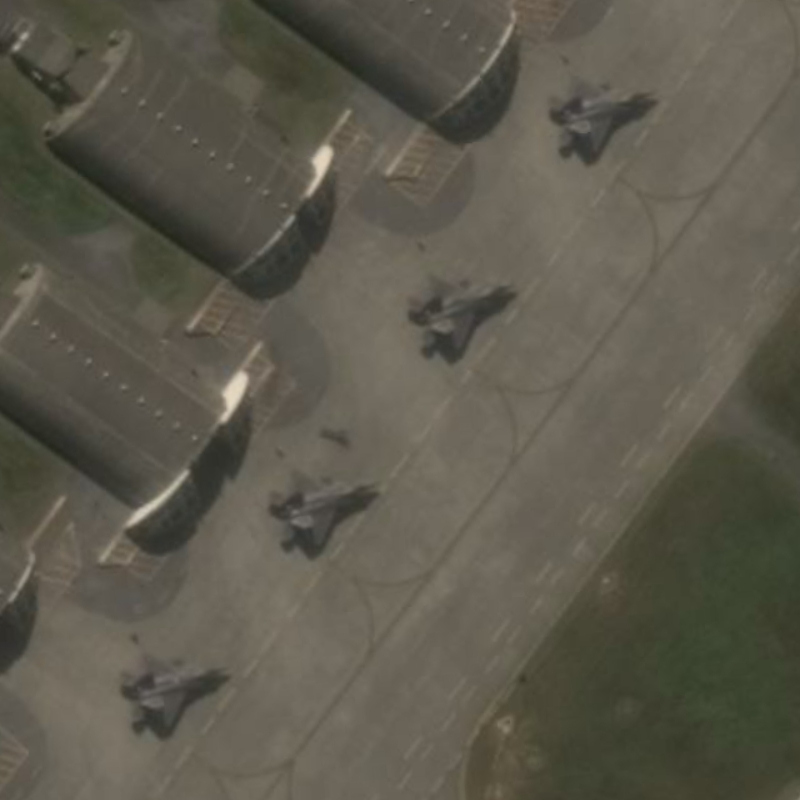A15: (399, 259, 521, 366), (262, 460, 387, 561), (540, 66, 660, 167), (115, 640, 235, 741)
